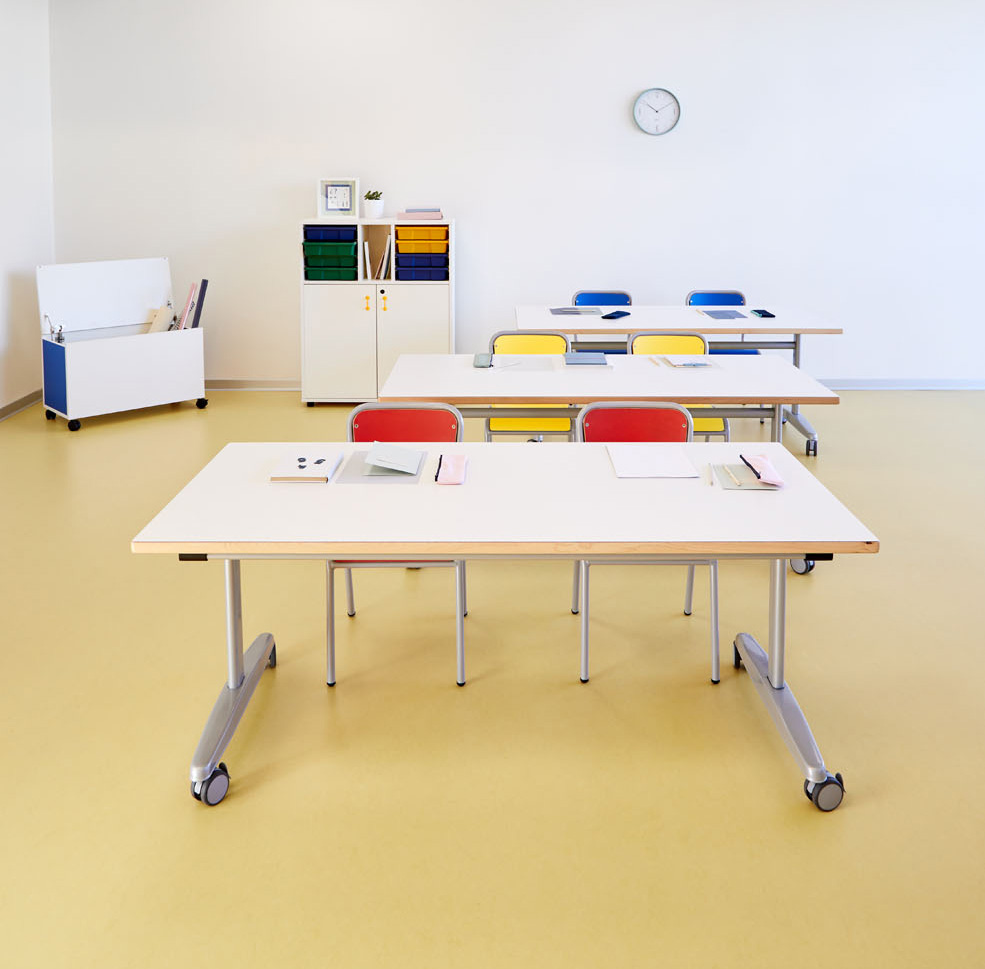m01: (130, 441, 882, 816)
